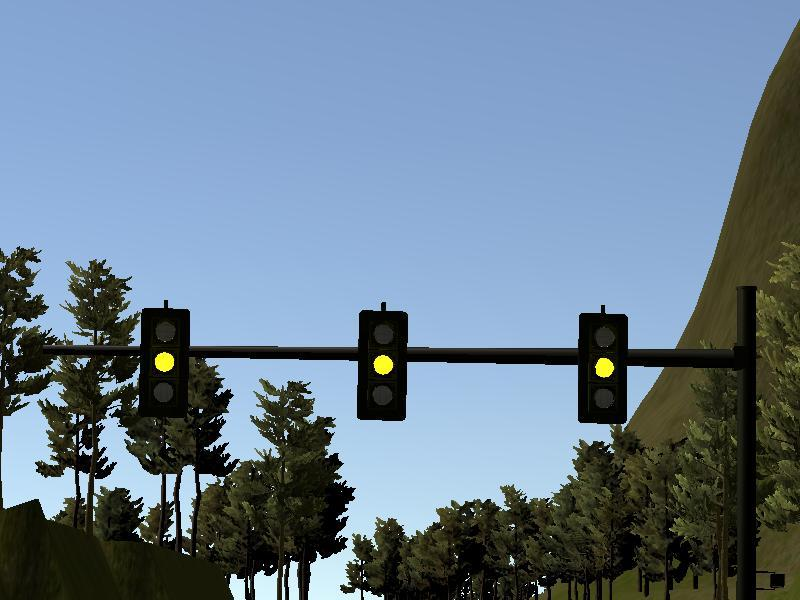Yellow: (359, 310, 406, 421), (579, 313, 626, 423), (142, 308, 187, 418)
